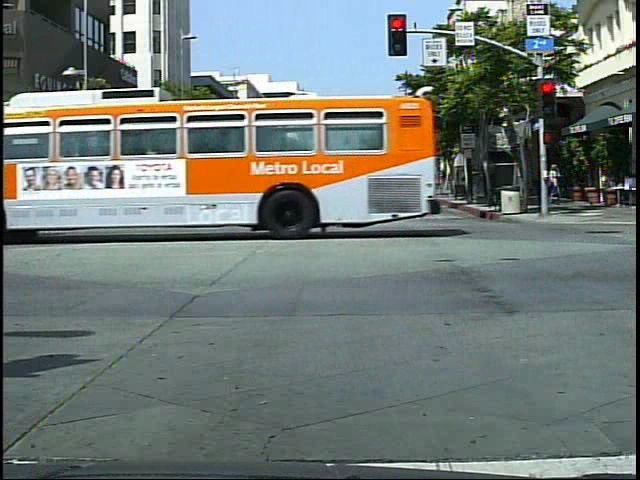person: (272, 165, 303, 229), (356, 166, 386, 230), (169, 168, 198, 234), (548, 160, 570, 207)
